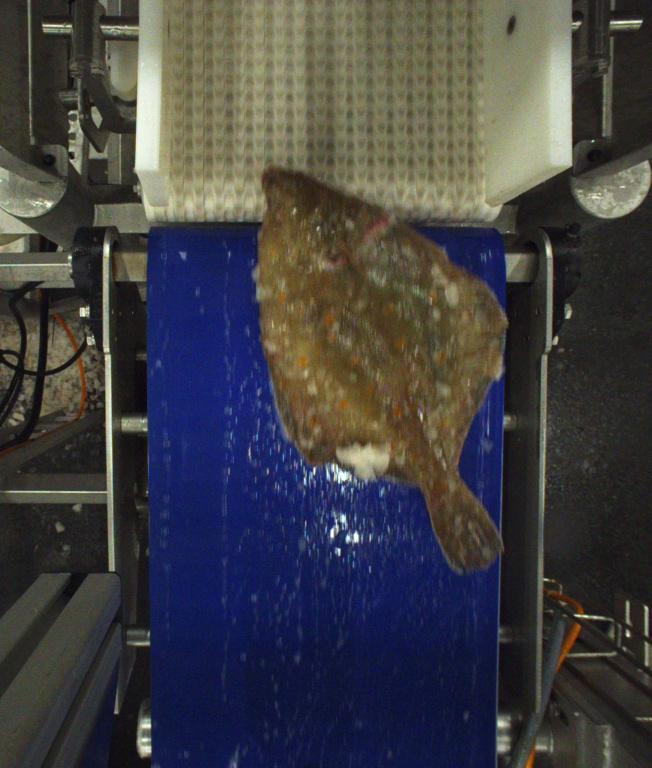PLE: (254, 166, 507, 577)
